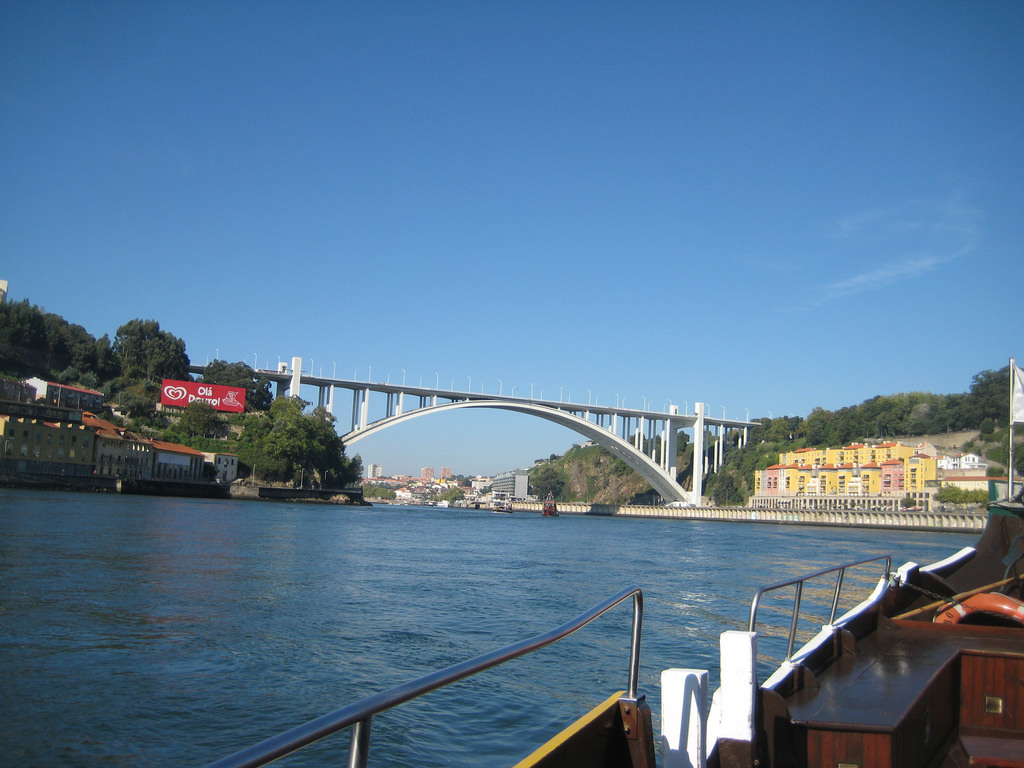arrabida: (248, 352, 766, 511)
